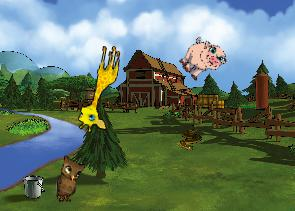giraffe: (75, 41, 122, 135)
owl: (56, 155, 86, 203)
pig: (174, 31, 230, 87)
